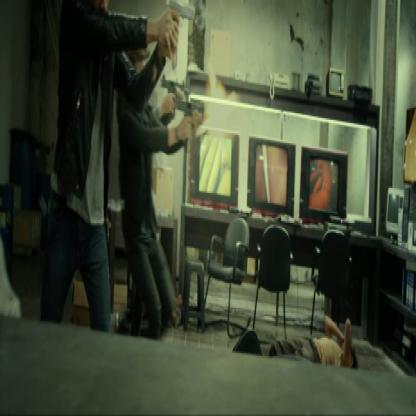Gun: (161, 66, 204, 150), (165, 0, 197, 39)
